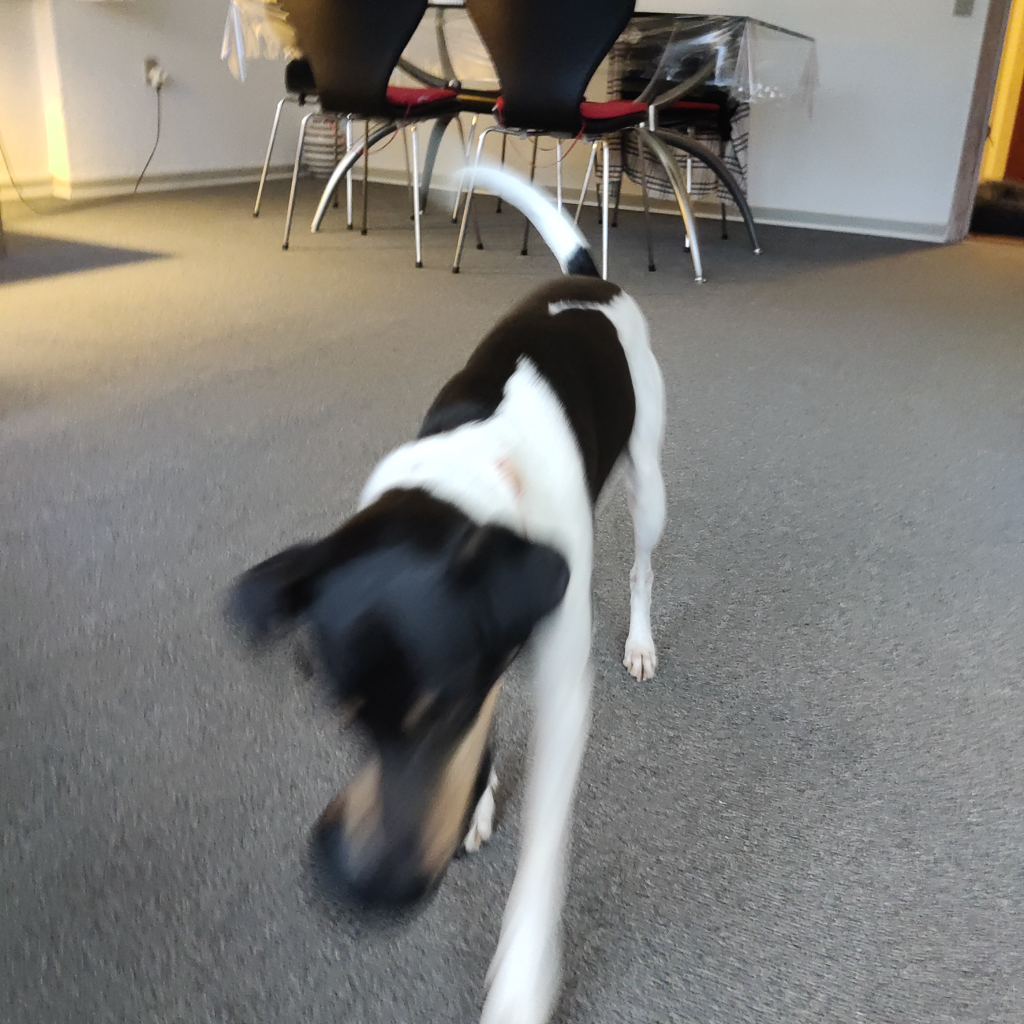Dog: (193, 126, 710, 1024)
